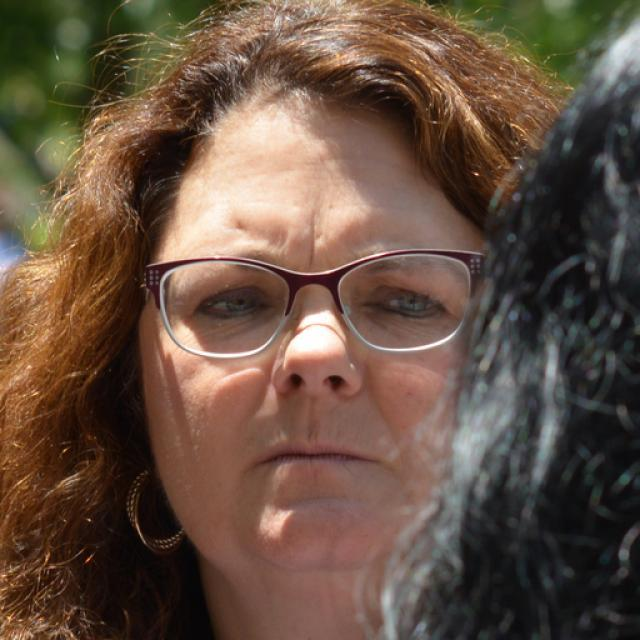anger: (142, 119, 476, 570)
